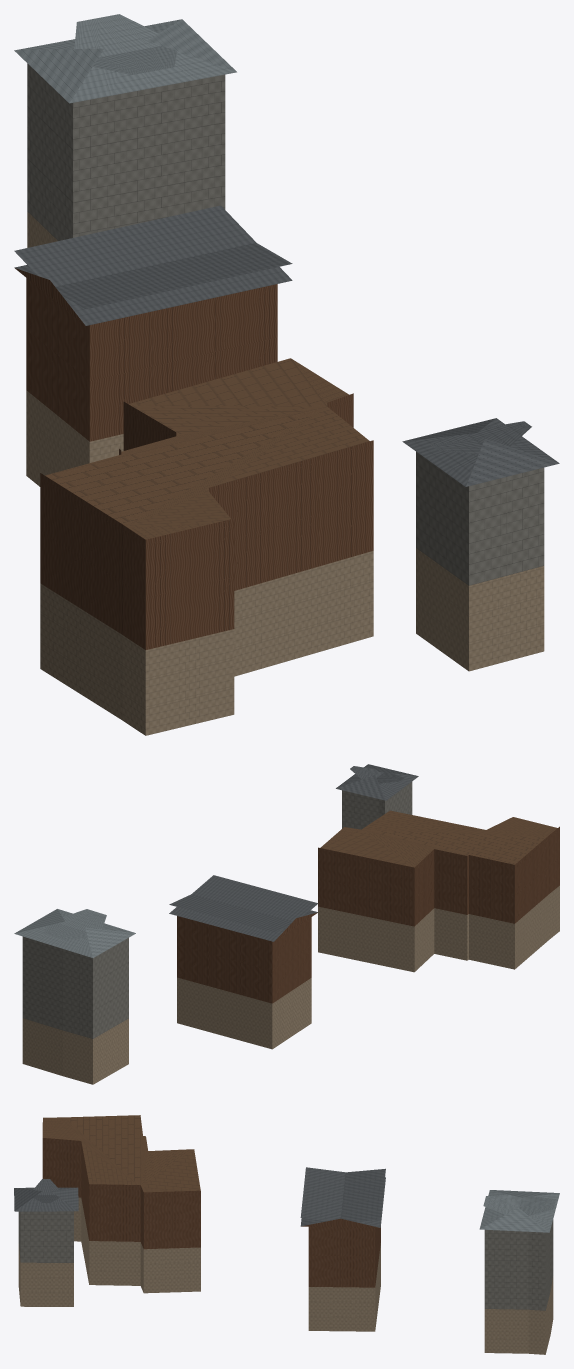
File: bld_c36_-28_443.gltf
The picture shows the model from 3 angles, top to bottom: view 1: azimuth 30°, elevation 25°; view 2: azimuth 150°, elevation 25°; view 3: azimuth 270°, elevation 25°; orthographic projection. The views are drawn at different scales.
Parts seen in each view (by area): view 1: bld_c36_-28_443; view 2: bld_c36_-28_443; view 3: bld_c36_-28_443.
Part boxes in pixels (bbox=[...]): bld_c36_-28_443: bbox=[14, 14, 559, 735]; bld_c36_-28_443: bbox=[14, 764, 559, 1084]; bld_c36_-28_443: bbox=[14, 1115, 559, 1354].
Bounding box in the file's own units: 33.63 × 16.4 × 57.3.
Materials: 7 (7 with a texture image).
